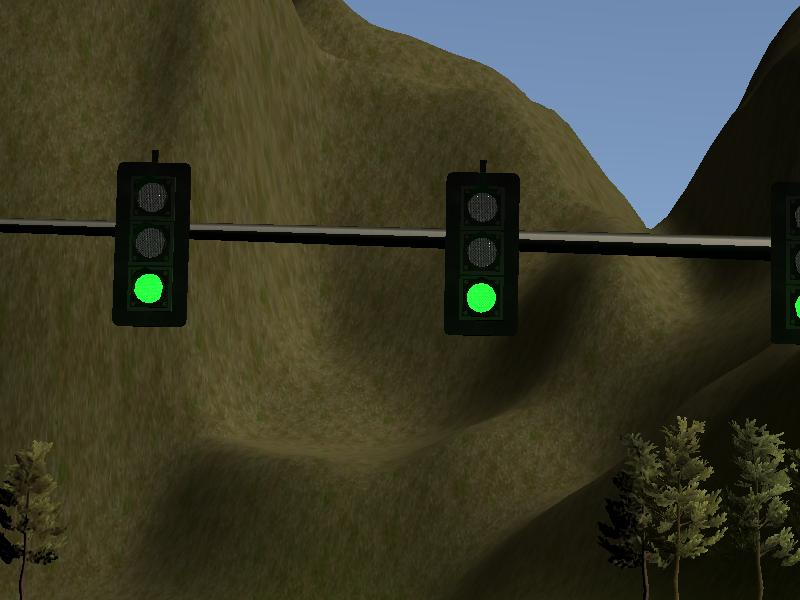green: (113, 163, 190, 326), (444, 174, 521, 337)
